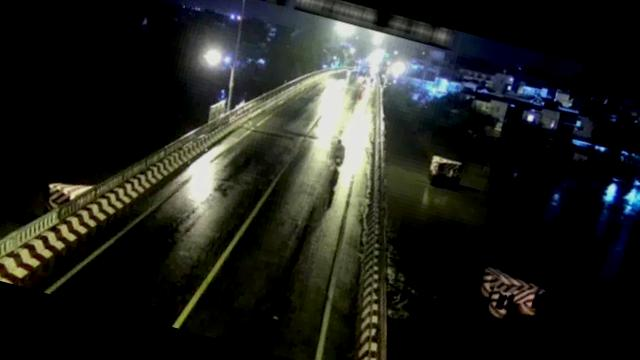Bike: (324, 134, 350, 168)
